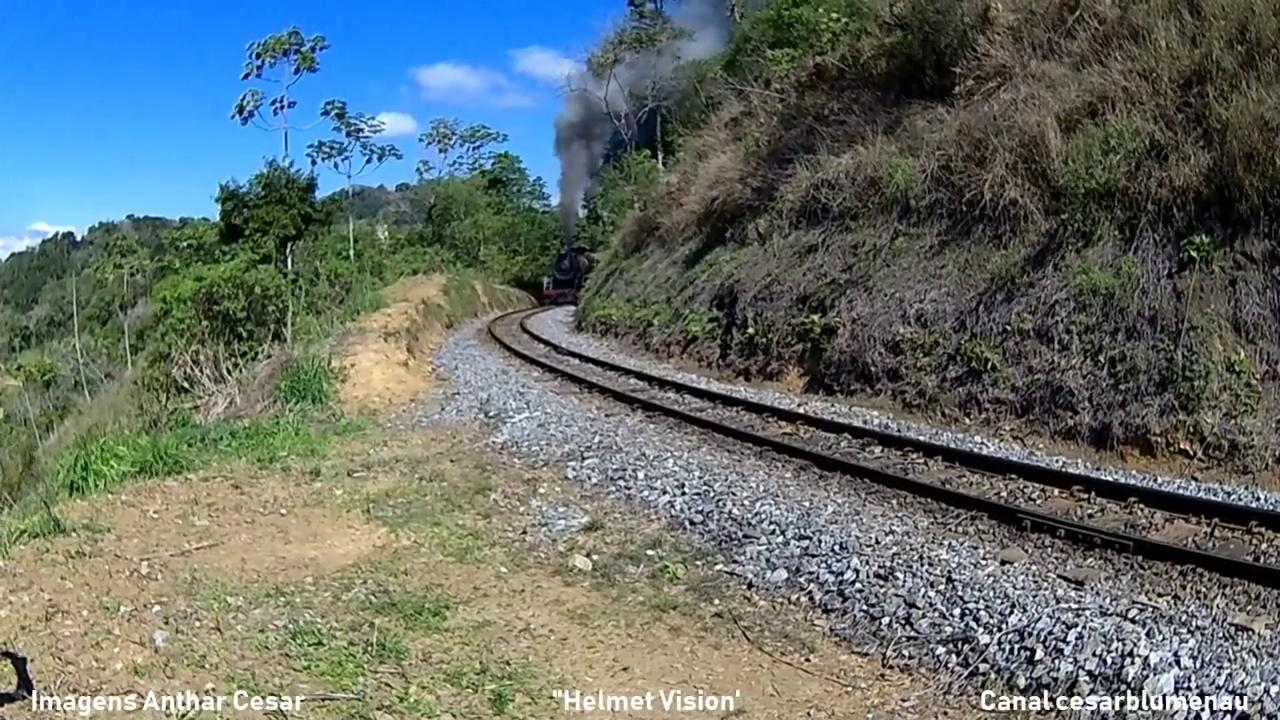Smoke: (560, 4, 616, 234), (622, 6, 728, 106)
